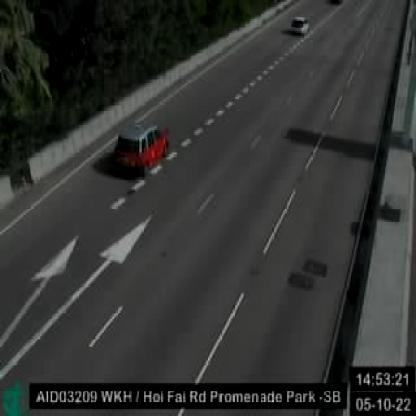Car: (114, 121, 168, 177), (288, 17, 310, 33)
